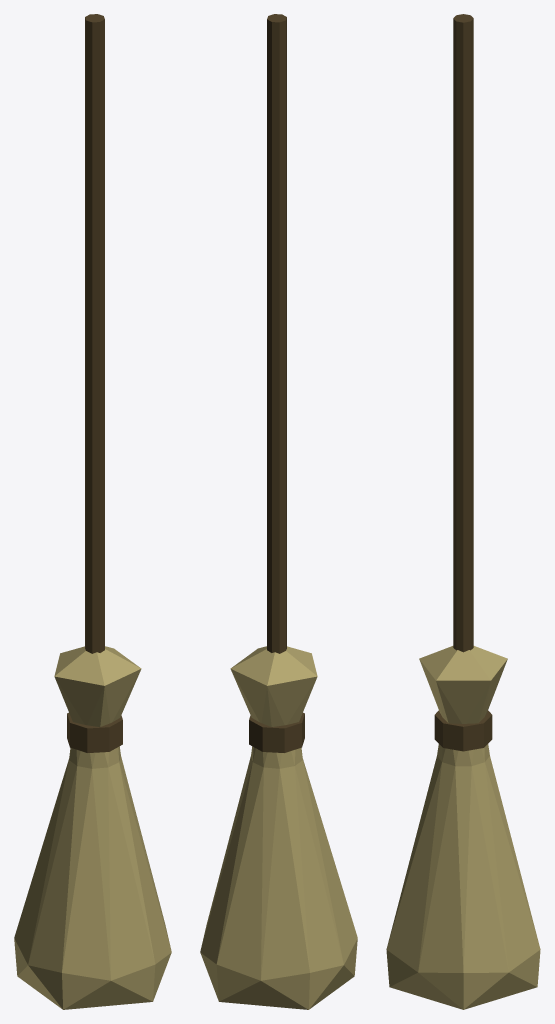
File: fantasy_broom_1.fbx
3 views of the same model, side by side, from view 1: azimuth 30°, elevation 25°; view 2: azimuth 150°, elevation 25°; view 3: azimuth 270°, elevation 25° (orthographic).
Parts seen in each view (by area): view 1: Cylinder.018; view 2: Cylinder.018; view 3: Cylinder.018.
Part boxes in pixels (box(x1,y1,x2,y2)): Cylinder.018: box(14, 14, 171, 1009); Cylinder.018: box(200, 14, 357, 1009); Cylinder.018: box(386, 14, 540, 1009).
Size of the model in its own units: 24.96 by 169 by 24.34.
